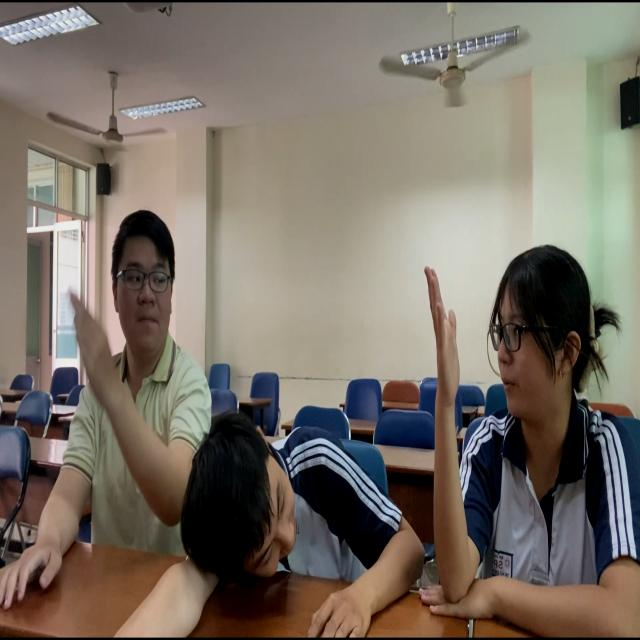raise_hand: (416, 244, 638, 636)
